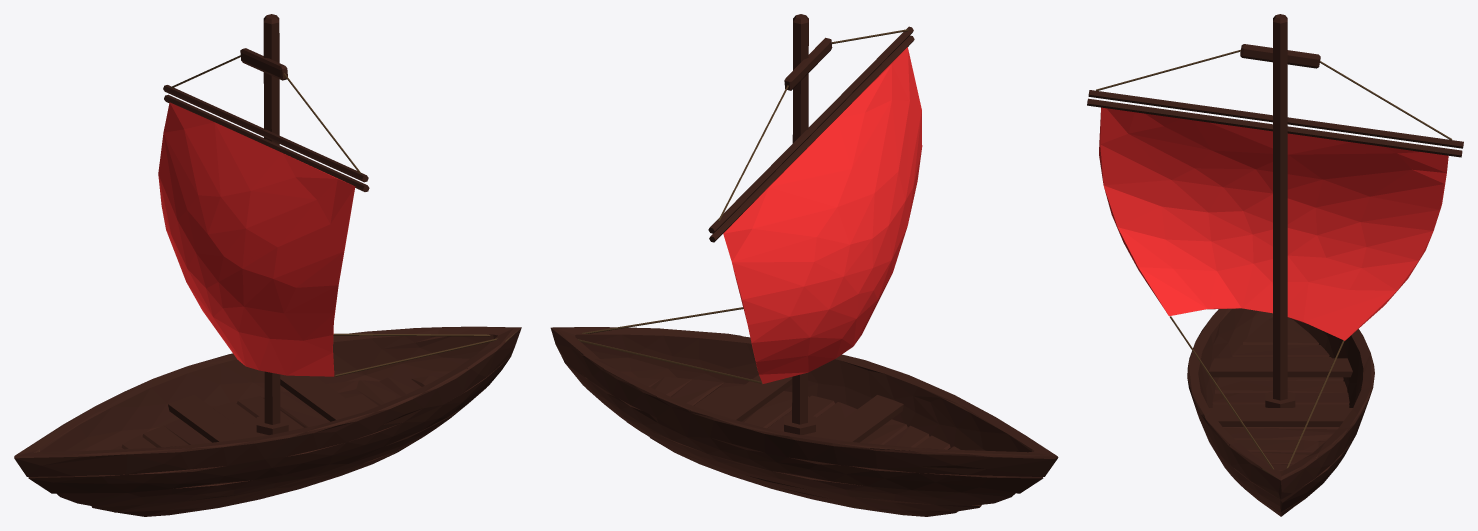
File: boat_02.FBX
3 views of the same model, side by side, from view 1: azimuth 30°, elevation 25°; view 2: azimuth 150°, elevation 25°; view 3: azimuth 270°, elevation 25° (orthographic). The views are drawn at different scales.
Parts seen in each view (by area): view 1: boat_02; view 2: boat_02; view 3: boat_02.
Part boxes in pixels (<box>): boat_02: <box>14,14,521,516</box>; boat_02: <box>550,14,1058,516</box>; boat_02: <box>1087,14,1463,516</box>.
Size of the model in its own units: 1320 by 1192 by 903.
